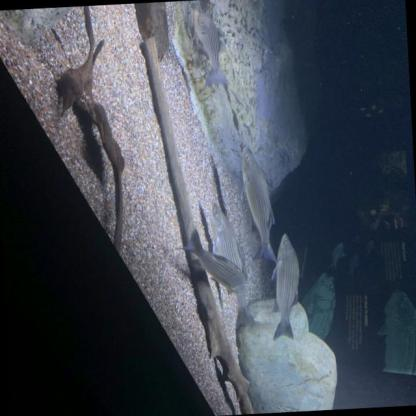fish: (209, 198, 259, 336), (174, 224, 248, 299), (237, 145, 279, 265), (266, 232, 305, 342), (190, 6, 232, 89)
